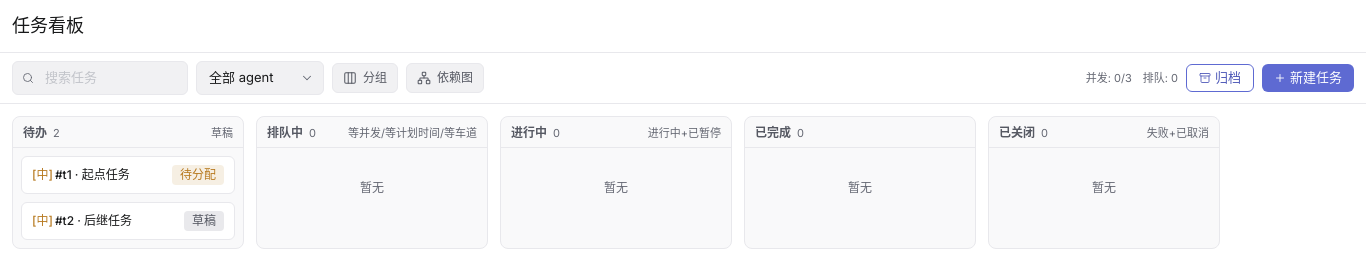
Test: TaskBoardView 主区（看板重构 Task 11） › 点「依赖图」→ dag 画板出现（分层列）+ localStorage 持久化 dag；再点回平铺
The width and height of the screenshot is (1366, 266).
What coordinates should you click on to do the following:
click the button "依赖图"
I would click on:
 (445, 78)
Its box is x1=406 y1=63 x2=484 y2=93.
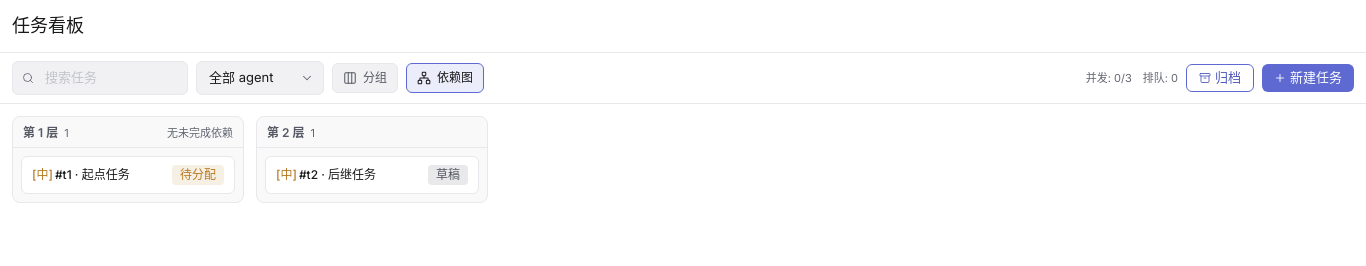
Expected: the element with test id "dag-board" is shown, x1=12 y1=116 x2=488 y2=202
Expected: the element named "依赖层 1" is shown, x1=12 y1=116 x2=244 y2=202
Expected: the element named "依赖层 2" is shown, x1=256 y1=116 x2=488 y2=202
Note: 再点依赖图 → 回平铺（toggle off），持久化 flat
What coordinates should you click on to do the following:
click the button "依赖图"
I would click on:
 (445, 78)
Its box is x1=406 y1=63 x2=484 y2=93.
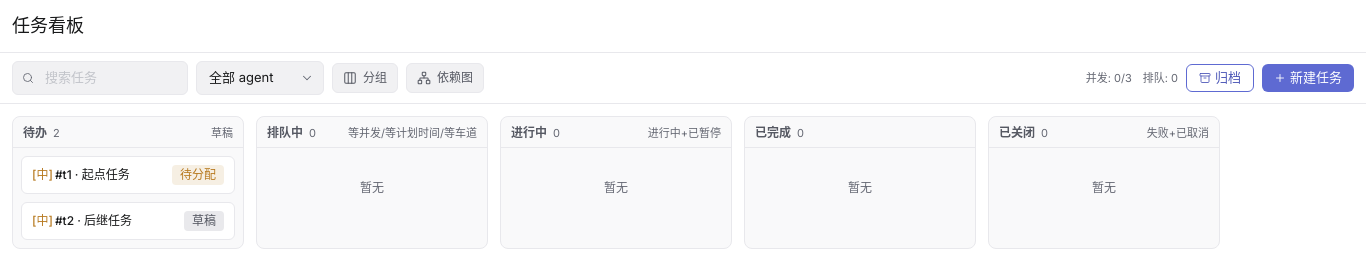
Expected: the element with test id "dag-board" is gone
Expected: the text "待办" is shown, x1=23 y1=124 x2=47 y2=140
